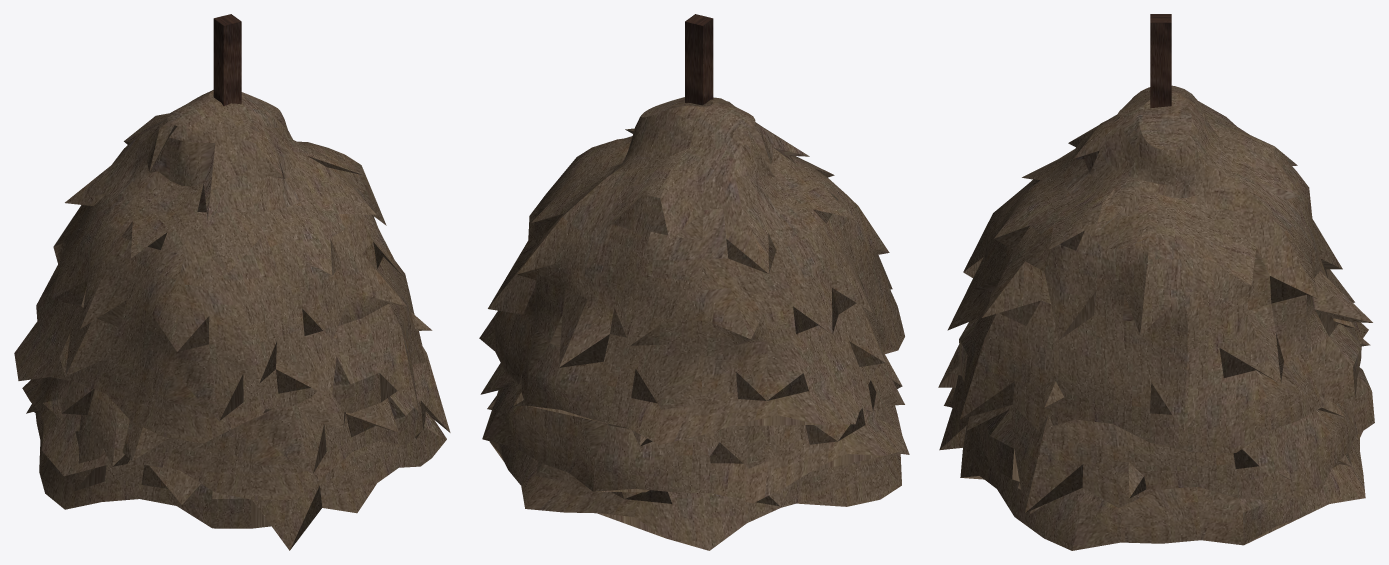
The model's file is HayStack.fbx.
3 renders of one model, left to right at view 1: azimuth 30°, elevation 25°; view 2: azimuth 150°, elevation 25°; view 3: azimuth 270°, elevation 25°, orthographic. The views are drawn at different scales.
Parts seen in each view (by area): view 1: Cylinder.002, Cube; view 2: Cylinder.002, Cube; view 3: Cylinder.002, Cube.
Boxes of the visible parts, x1,y1,x2,y2 form: Cylinder.002: [14, 90, 450, 550]; Cube: [213, 14, 241, 105]; Cylinder.002: [479, 97, 909, 550]; Cube: [685, 14, 713, 105]; Cylinder.002: [938, 85, 1374, 550]; Cube: [1150, 14, 1171, 108].
Bounding box in the file's own units: 221 × 262 × 218.
